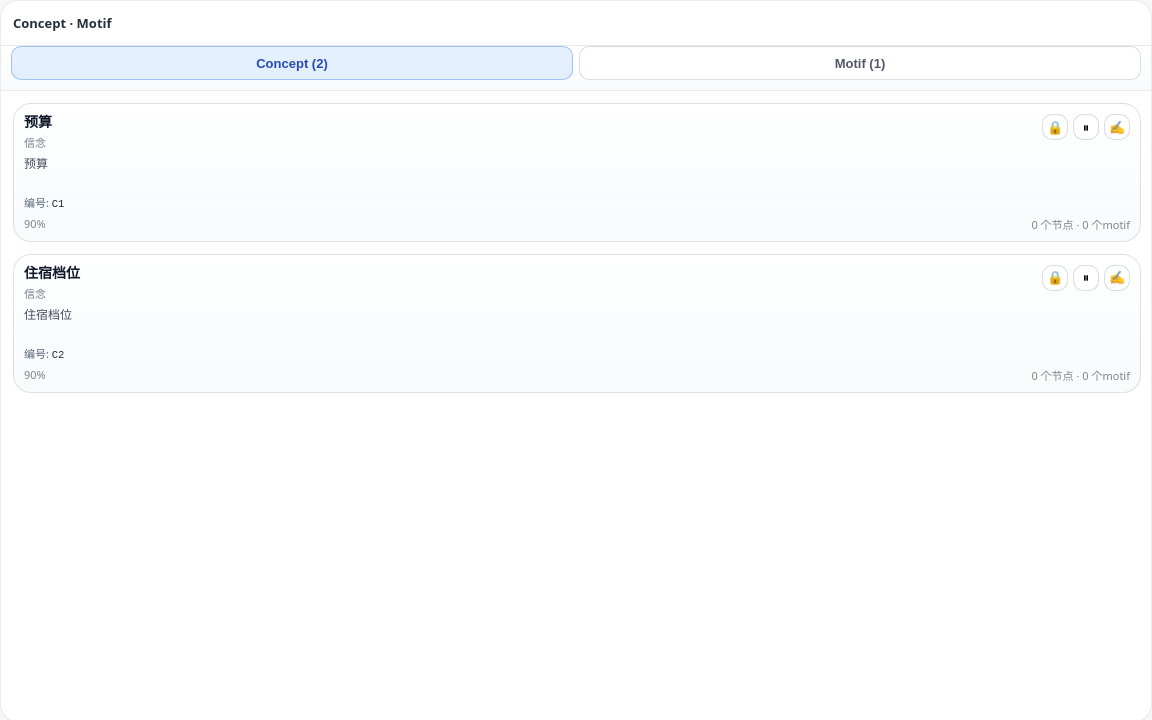
Test: renders motif cards with readable summary, named pattern, and no empty source footer
The image size is (1152, 720).
Click the button "Motif (1)": coordinates (860, 63) top-left (579, 46), bottom-right (1141, 80)
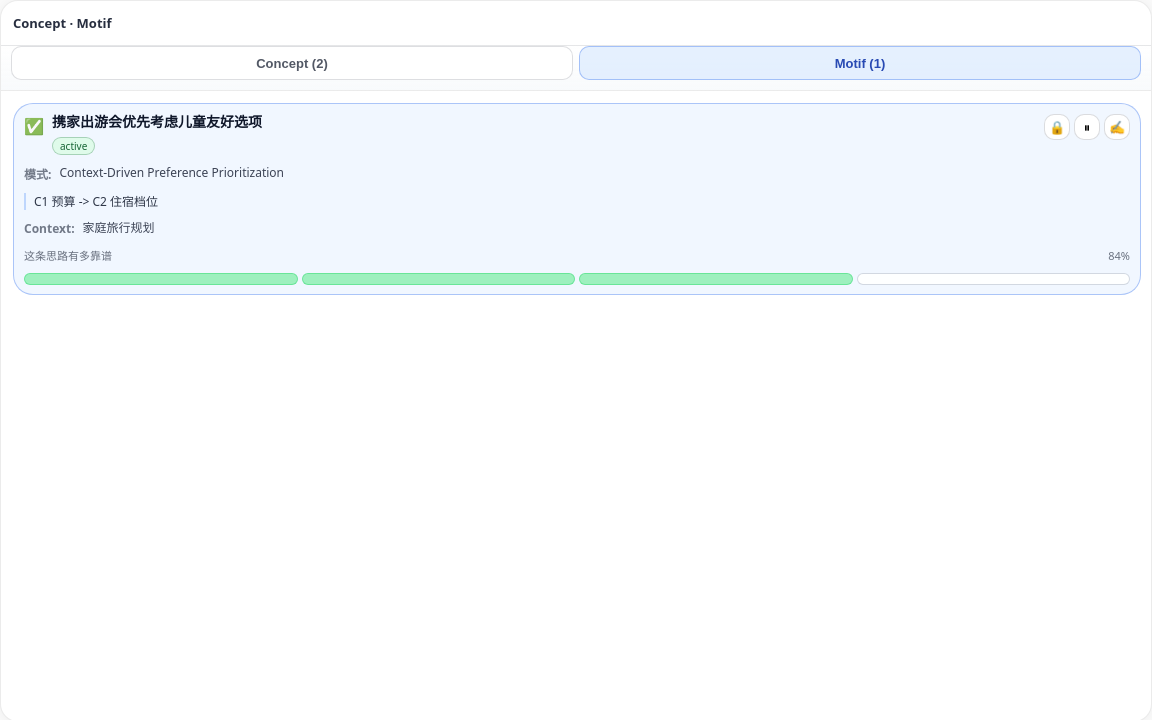
Check: the text "携家出游会优先考虑儿童友好选项" is shown, box top-left (52, 112), bottom-right (262, 131)
Check: the text "Context-Driven Preference Prioritization" is shown, box top-left (59, 164), bottom-right (284, 181)
Check: the text "C1 预算 -> C2 住宿档位" is shown, box top-left (24, 193), bottom-right (1130, 210)
